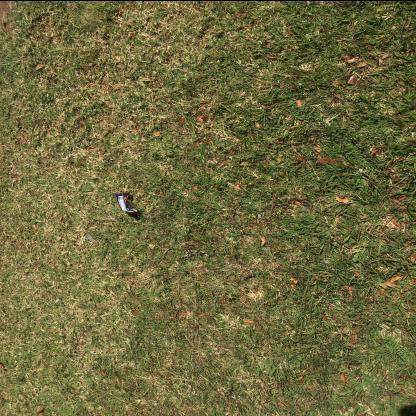plastik: (116, 193, 142, 215)
